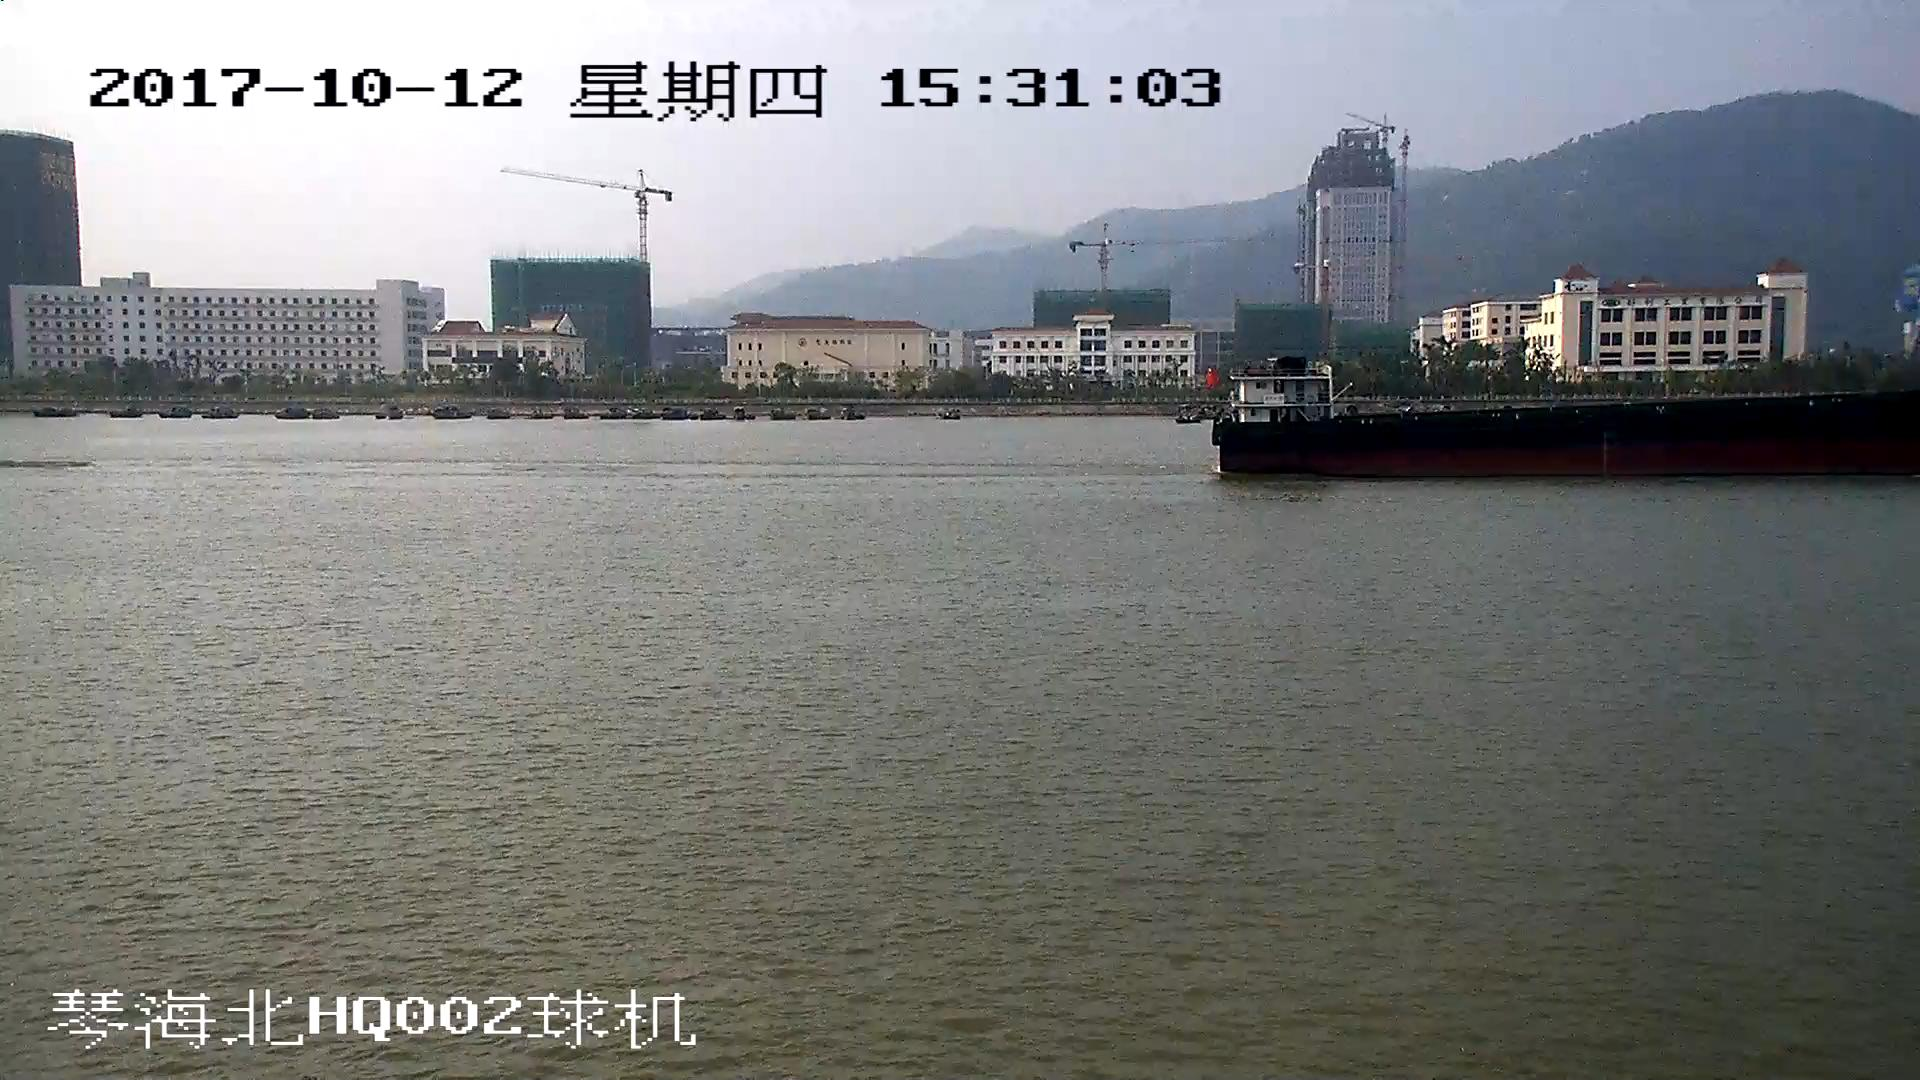general cargo ship: (1198, 368, 1920, 478)
